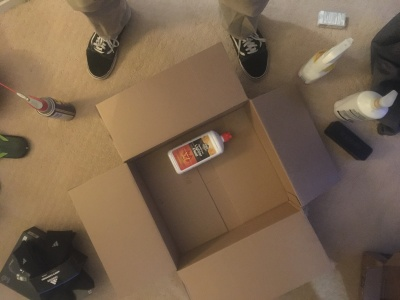innerbox: (144, 123, 278, 235)
outerbox: (84, 76, 332, 300)
product: (163, 131, 234, 174)
